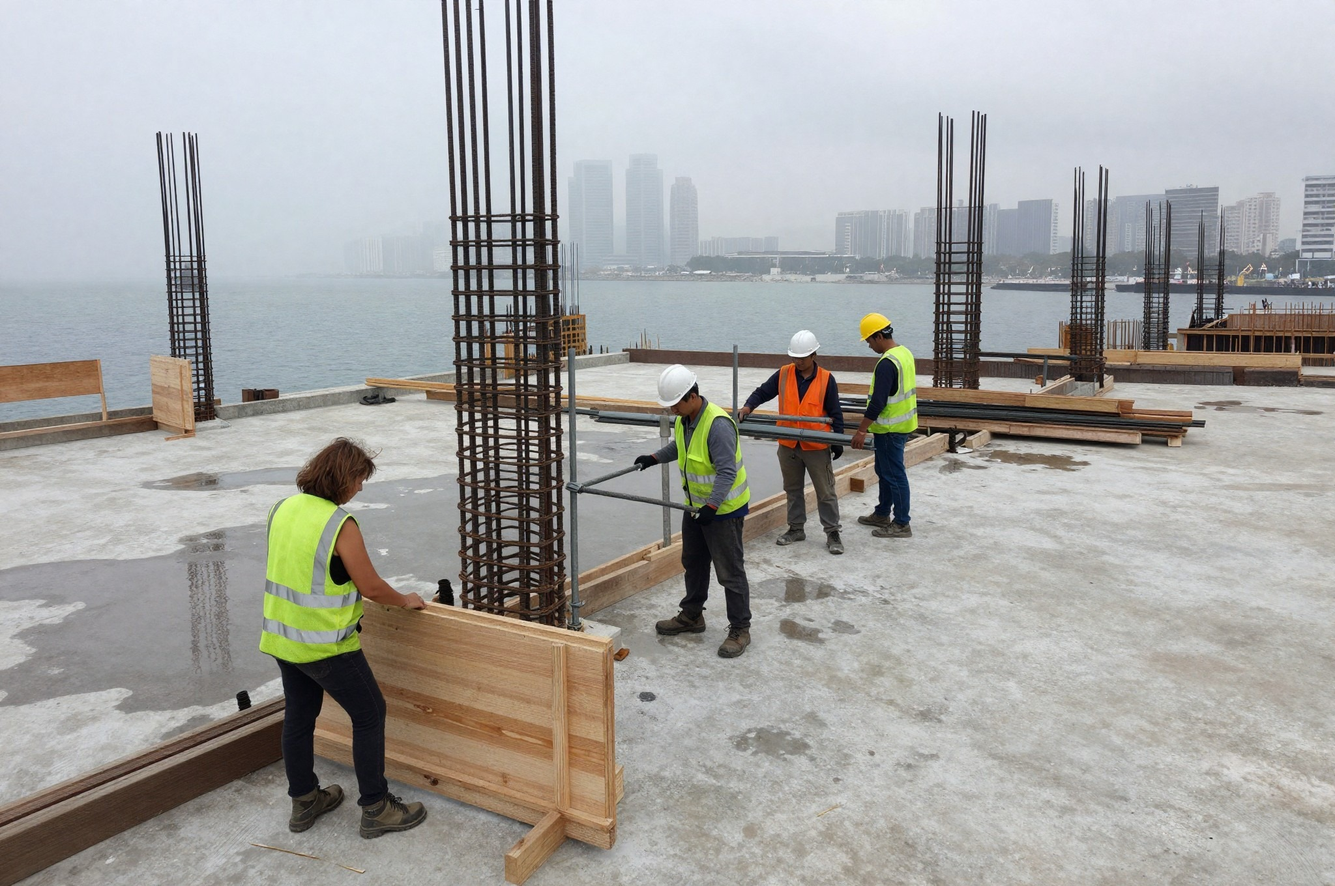helmet: (644, 347, 716, 407), (845, 306, 897, 343), (794, 325, 817, 370)
vests: (253, 489, 372, 670), (666, 409, 767, 514), (759, 352, 841, 448), (856, 352, 932, 444)
